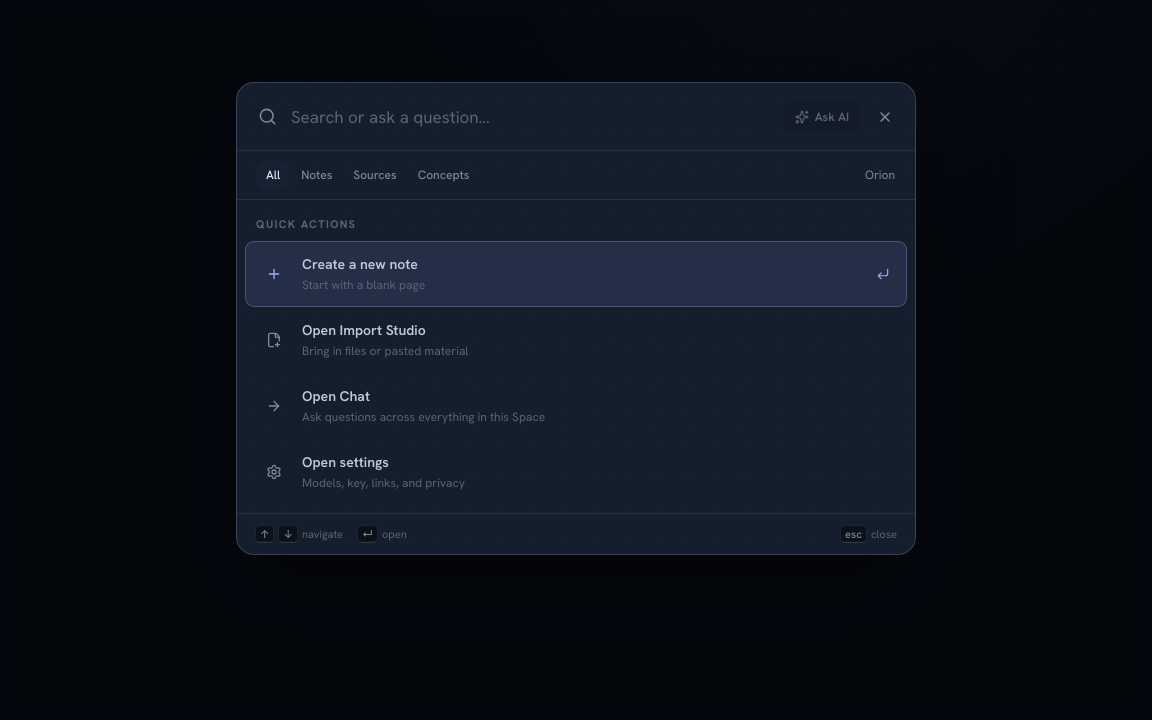
Test case: CommandPalette search › offers the selected-provider gate without disabling local results
Type "quartz" into the dropdown at (531, 116), box x1=289 y1=104 x2=773 y2=128
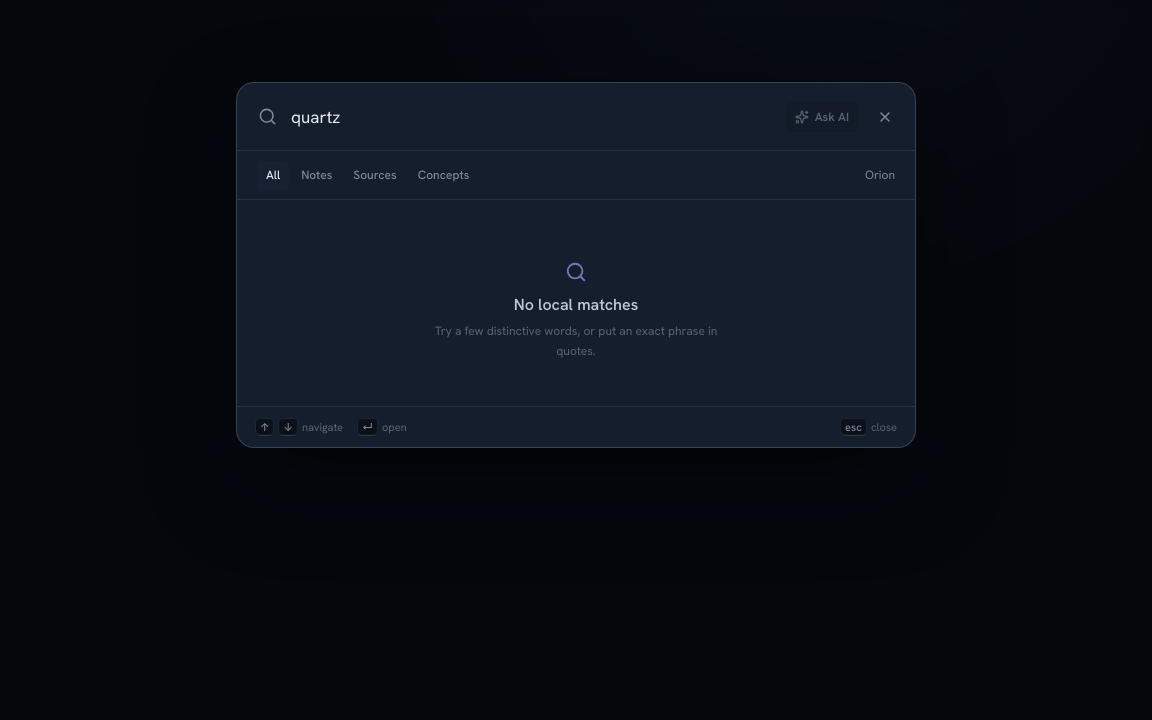
Expected: the button "Ask AI" is disabled, x1=785 y1=102 x2=859 y2=132
Expected: the text "No local matches" is shown, x1=514 y1=294 x2=638 y2=315
